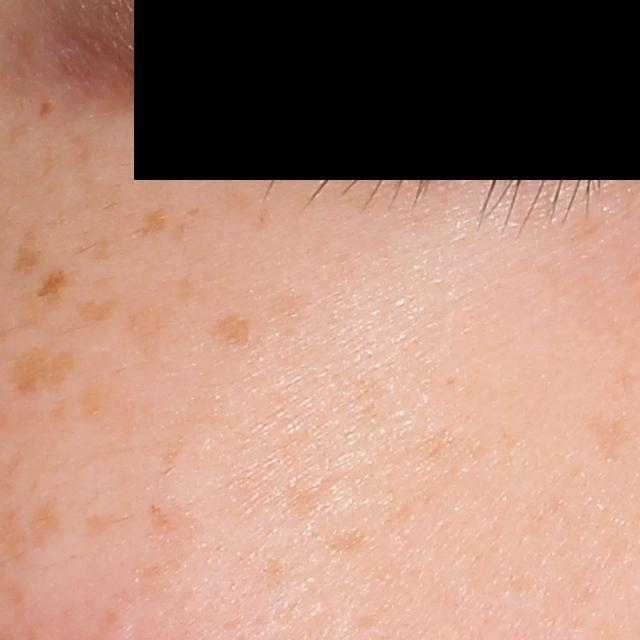melasma: (13, 349, 80, 393), (73, 290, 127, 330), (585, 418, 630, 463), (139, 501, 184, 546), (139, 201, 171, 241)
